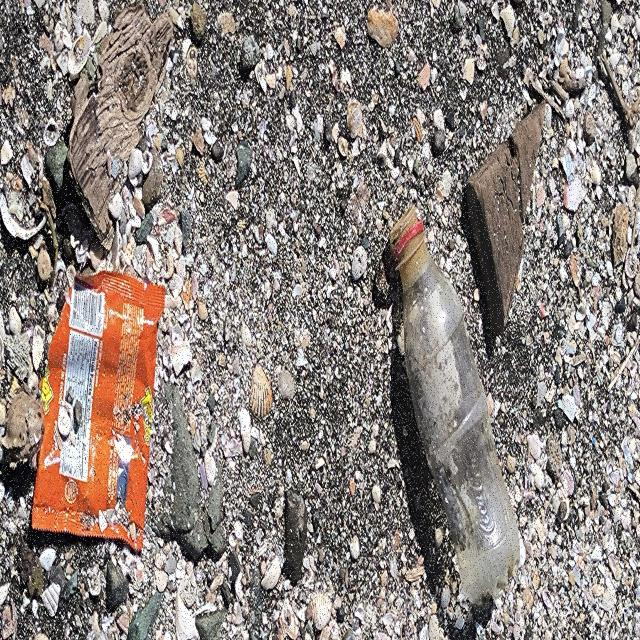plastic_waste: (389, 202, 523, 610), (32, 271, 167, 555)
wood_waste: (465, 100, 548, 342)
